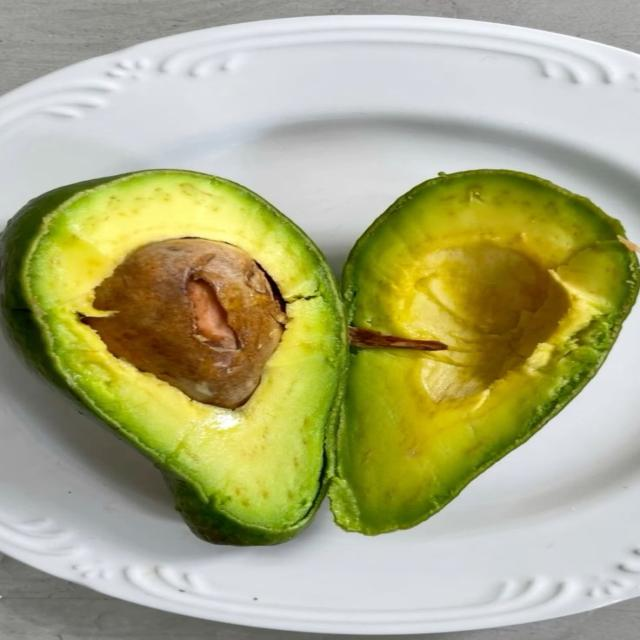avocado: (0, 171, 345, 545), (330, 170, 638, 534)
